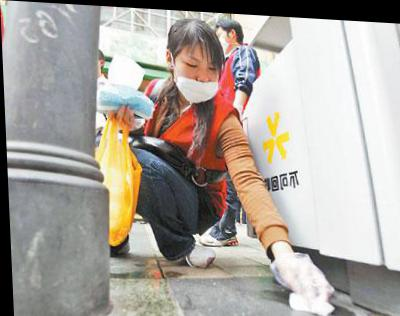OK: (215, 26, 236, 54)
WRONG: (178, 54, 222, 99)
